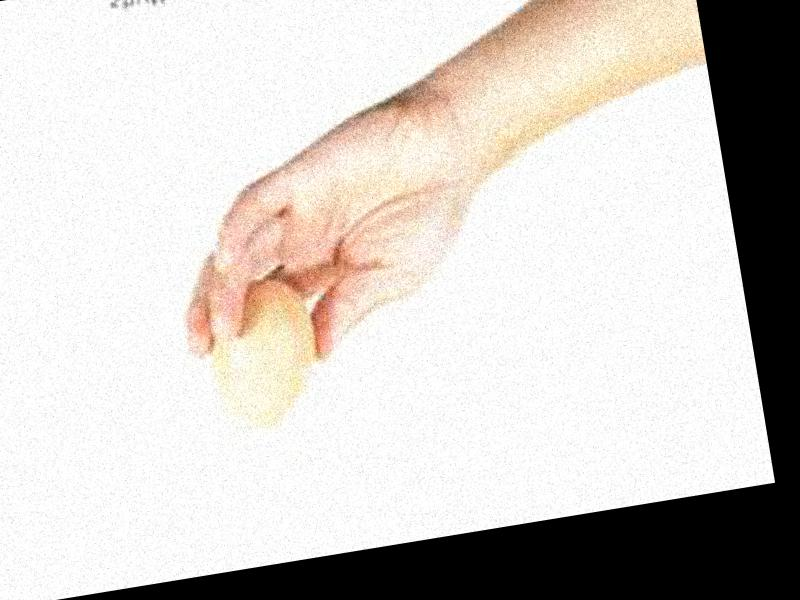Eggs: (198, 267, 328, 437)
